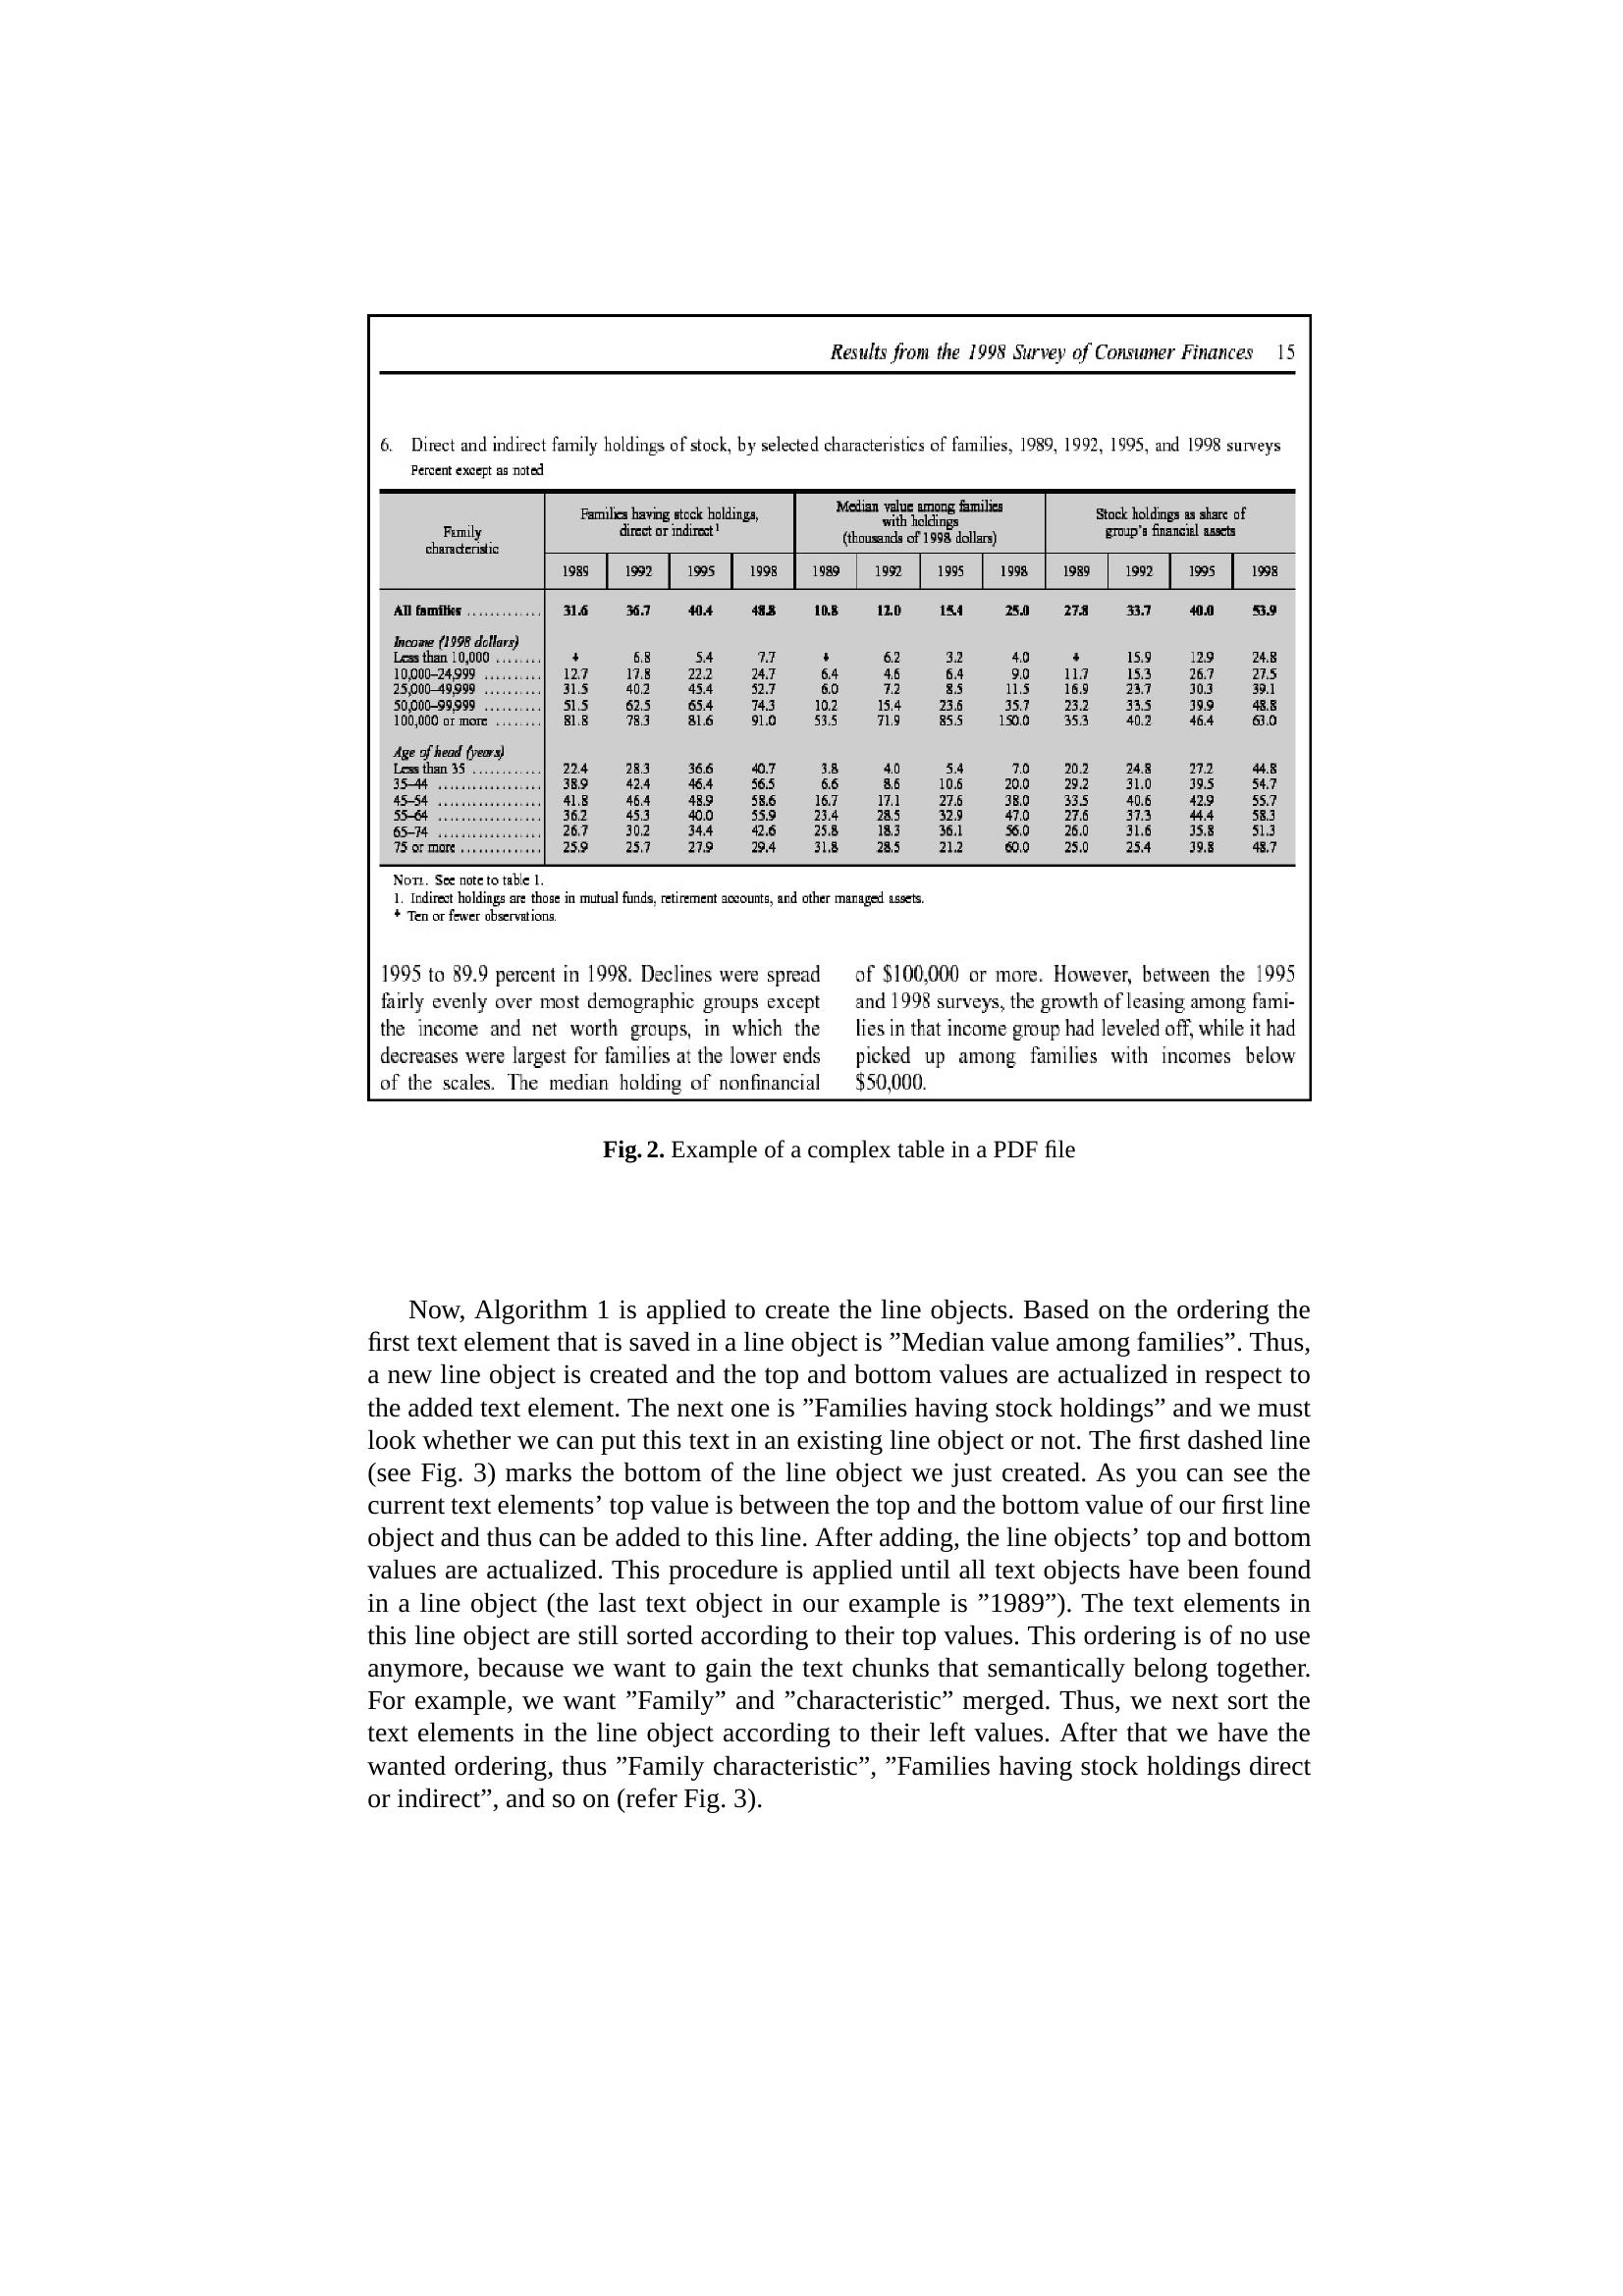table: (360, 311, 1321, 1109)
